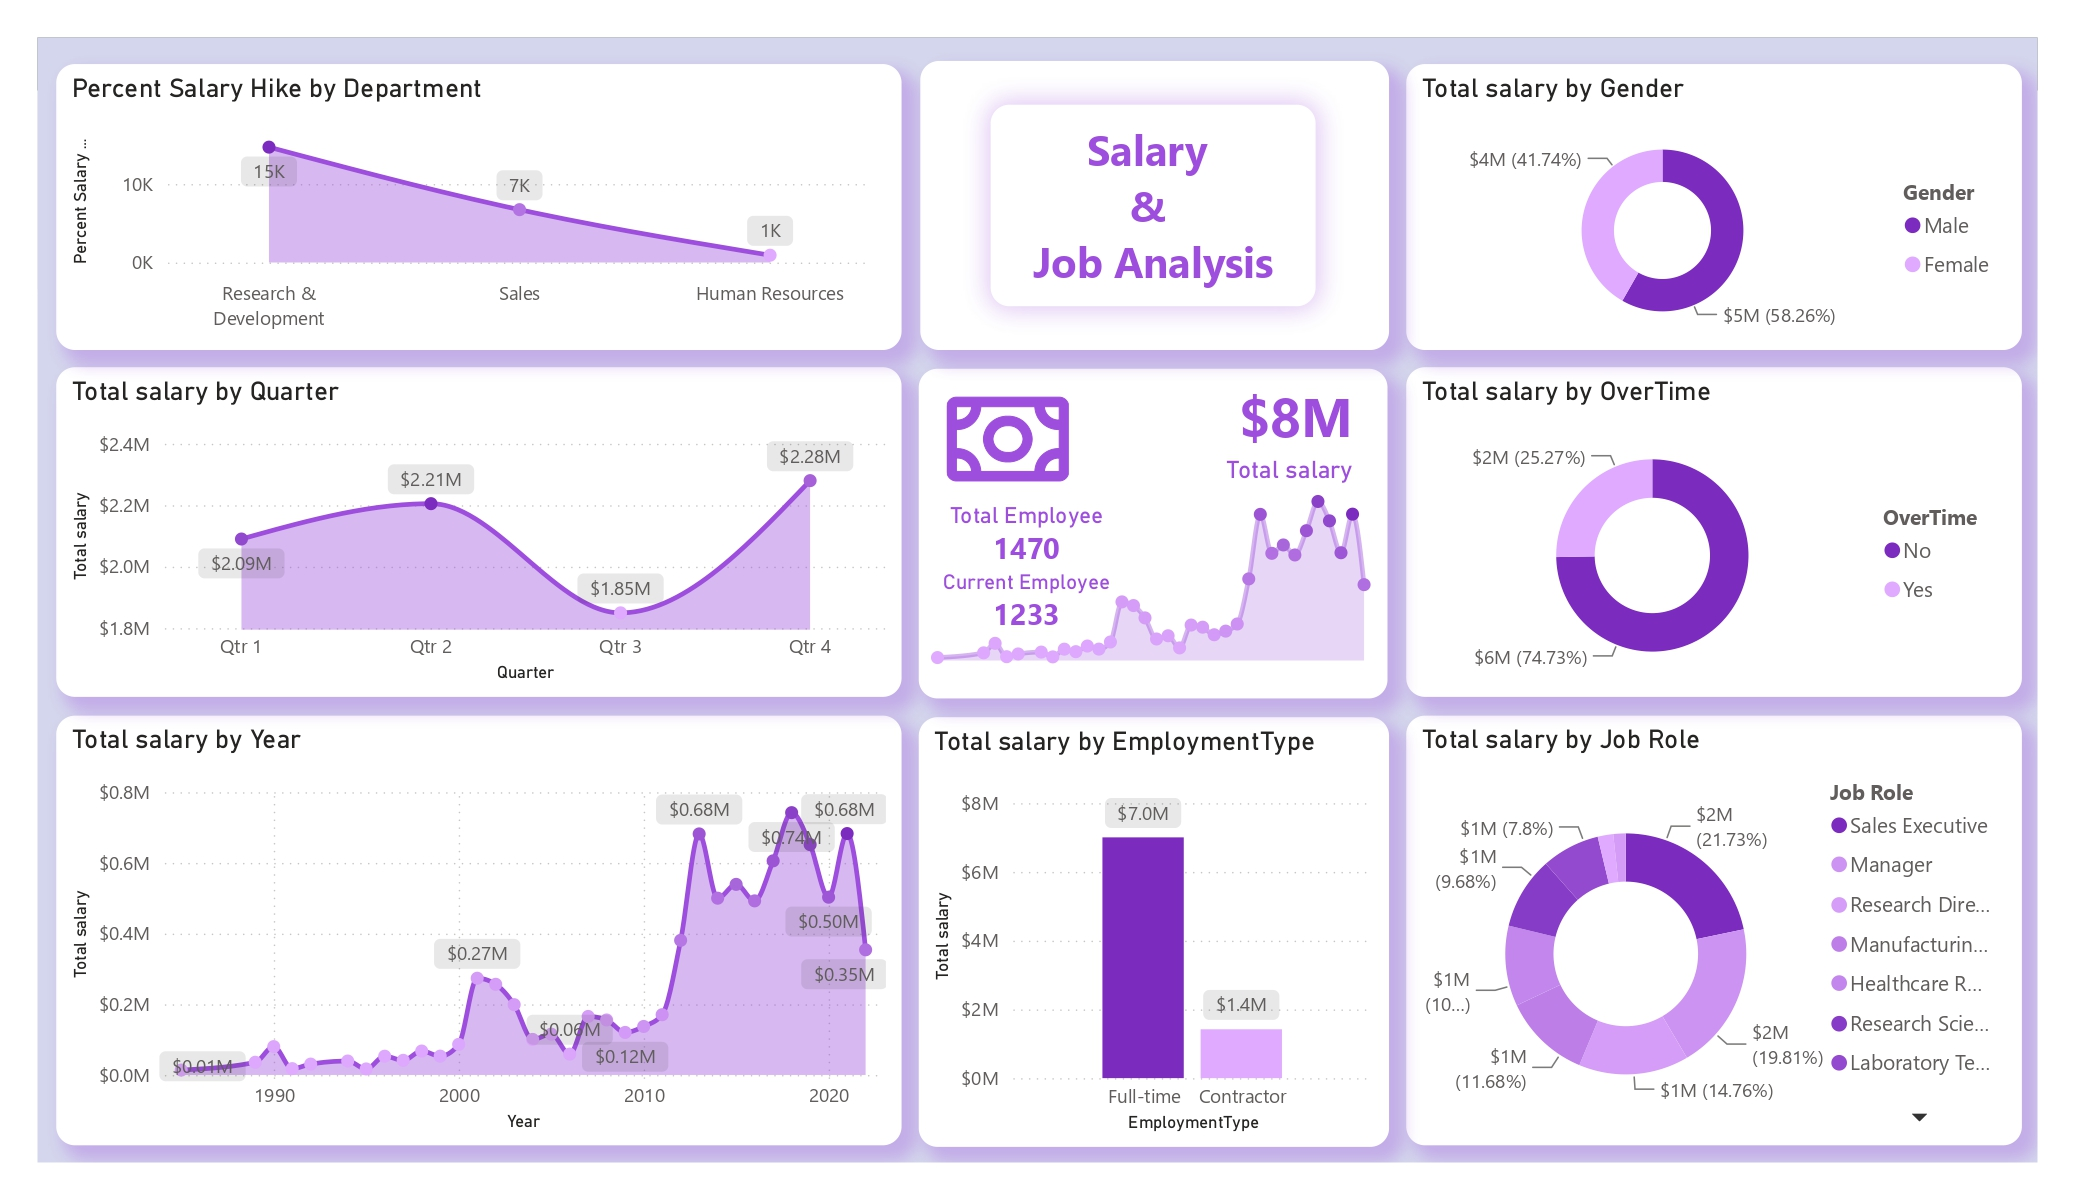

The page's visual inventory and layout, read from the dashboard file:
{"tool":"powerbi","page":{"name":"Salary & Job Analysis","canvas":[1280,720],"ordinal":2},"visuals":[{"type":"lineChart","fields":{"Y":["All measure.Total salary"],"Category":["HR Dashboard.DateStart.Variation.Date Hierarchy.Year"]},"box":[11.8,434.2,540.9,275],"z":0},{"type":"cardVisual","fields":{"Data":["All measure.Total salary"]},"box":[118.2,216.4,287.3,206.7],"z":1000},{"type":"lineChart","fields":{"Y":["All measure.Total salary"],"Category":["HR Dashboard.DateStart.Variation.Date Hierarchy.Quarter"]},"box":[11.8,210.8,540.9,211.7],"z":2000},{"type":"donutChart","fields":{"Category":["HR Dashboard.Job Role"],"Y":["All measure.Total salary"]},"box":[875.6,434.2,394.4,275],"z":4000},{"type":"lineChart","fields":{"Category":["HR Dashboard.Department"],"Y":["Sum(HR Dashboard.PercentSalaryHike)"]},"box":[11.8,17.2,540.9,182.7],"z":5000},{"type":"donutChart","fields":{"Y":["All measure.Total salary"],"Category":["HR Dashboard.OverTime"]},"box":[875.6,210.8,394.4,211.7],"z":6000},{"type":"clusteredColumnChart","fields":{"Y":["All measure.Total salary"],"Category":["HR Dashboard.EmploymentType"]},"box":[564.4,434.6,300.4,275],"z":7000},{"type":"shape","box":[564.3,211.2,300.4,212],"z":9000,"group":"g1"},{"type":"shape","box":[564.5,15.5,300,184.6],"z":10000,"group":"g2"},{"type":"cardVisual","fields":{"Data":["All measure.Total salary"]},"box":[691.3,193.7,180.4,115.6],"z":10000,"group":"g1"},{"type":"textbox","box":[609.9,43.2,208,129.1],"z":11000,"group":"g2"},{"type":"lineChart","fields":{"Y":["All measure.Total salary"],"Category":["HR Dashboard.DateStart.Variation.Date Hierarchy.Year"]},"box":[561.7,274.3,303.1,132.3],"z":11000,"group":"g1"},{"type":"textbox","box":[529.3,291.8,208.1,135.7],"z":11000,"group":"g1"},{"type":"image","box":[576.2,217.7,89.3,78],"z":11001,"group":"g1"},{"type":"group","id":"g1","title":"Group 2","box":[529.3,193.7,342.5,233.8],"z":11002},{"type":"donutChart","fields":{"Category":["HR Dashboard.Gender"],"Y":["All measure.Total salary"]},"box":[875.6,17.2,394.4,182.7],"z":11502},{"type":"group","id":"g2","title":"Group 1","box":[564.5,15.5,300,184.5],"z":11503}]}

Visuals, with their boxes in screenshot pixels (x1, y1, x2, y2):
lineChart - All measure.Total salary x HR Dashboard.DateStart.Variation.Date Hierarchy.Year: select_region(67, 724, 901, 1148)
cardVisual - All measure.Total salary: select_region(231, 388, 674, 706)
lineChart - All measure.Total salary x HR Dashboard.DateStart.Variation.Date Hierarchy.Quarter: select_region(67, 379, 901, 706)
donutChart - HR Dashboard.Job Role x All measure.Total salary: select_region(1399, 724, 2007, 1148)
lineChart - HR Dashboard.Department x Sum(HR Dashboard.PercentSalaryHike): select_region(67, 81, 901, 362)
donutChart - All measure.Total salary x HR Dashboard.OverTime: select_region(1399, 379, 2007, 706)
clusteredColumnChart - All measure.Total salary x HR Dashboard.EmploymentType: select_region(919, 724, 1382, 1148)
shape: select_region(919, 380, 1382, 707)
shape: select_region(919, 78, 1382, 363)
cardVisual - All measure.Total salary: select_region(1115, 353, 1393, 531)
textbox: select_region(989, 121, 1310, 320)
lineChart - All measure.Total salary x HR Dashboard.DateStart.Variation.Date Hierarchy.Year: select_region(915, 477, 1382, 681)
textbox: select_region(865, 504, 1186, 713)
image: select_region(937, 390, 1075, 510)
"Group 2" group: select_region(865, 353, 1393, 713)
donutChart - HR Dashboard.Gender x All measure.Total salary: select_region(1399, 81, 2007, 362)
"Group 1" group: select_region(919, 78, 1382, 362)
